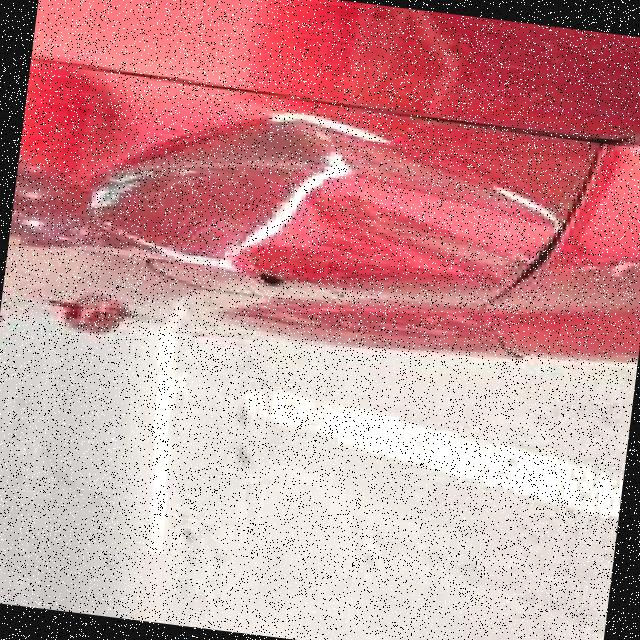Dent: (59, 75, 590, 340)
